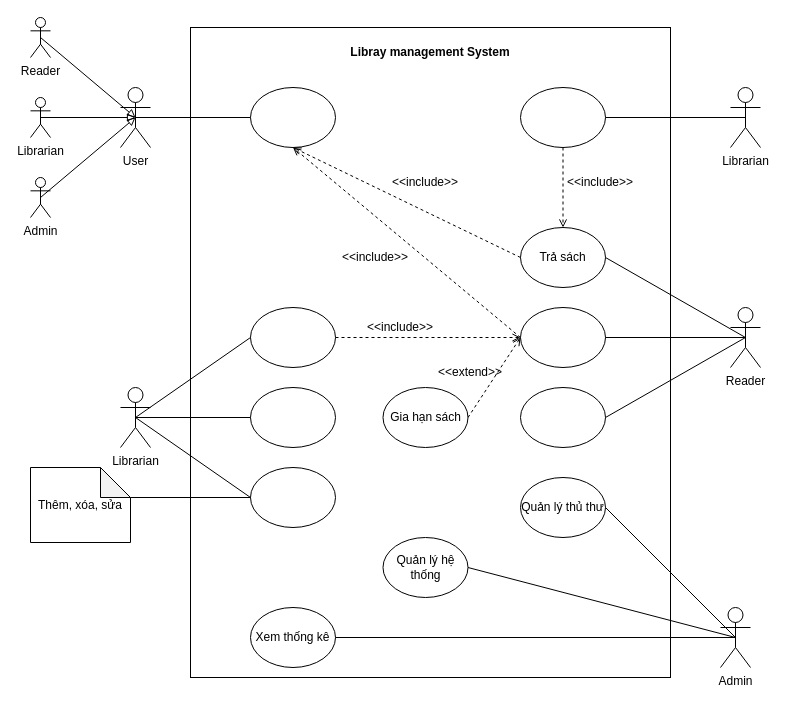
Image size: 786x706. Some labels were removed from this diagram. Here are the shapes that lost their labels. From the top down, the centre of each, then its label:
At [293,117]: "Đăng nhập".
At [563,117]: "Xác nhận trả sách".
At [293,337]: "Xác nhận mượn sách".
At [563,337]: "Mượn sách".
At [293,417]: "Quản lý tài khoản người dùng".
At [563,417]: "Tìm kiếm sách".
At [293,497]: "Quản lý sách".
